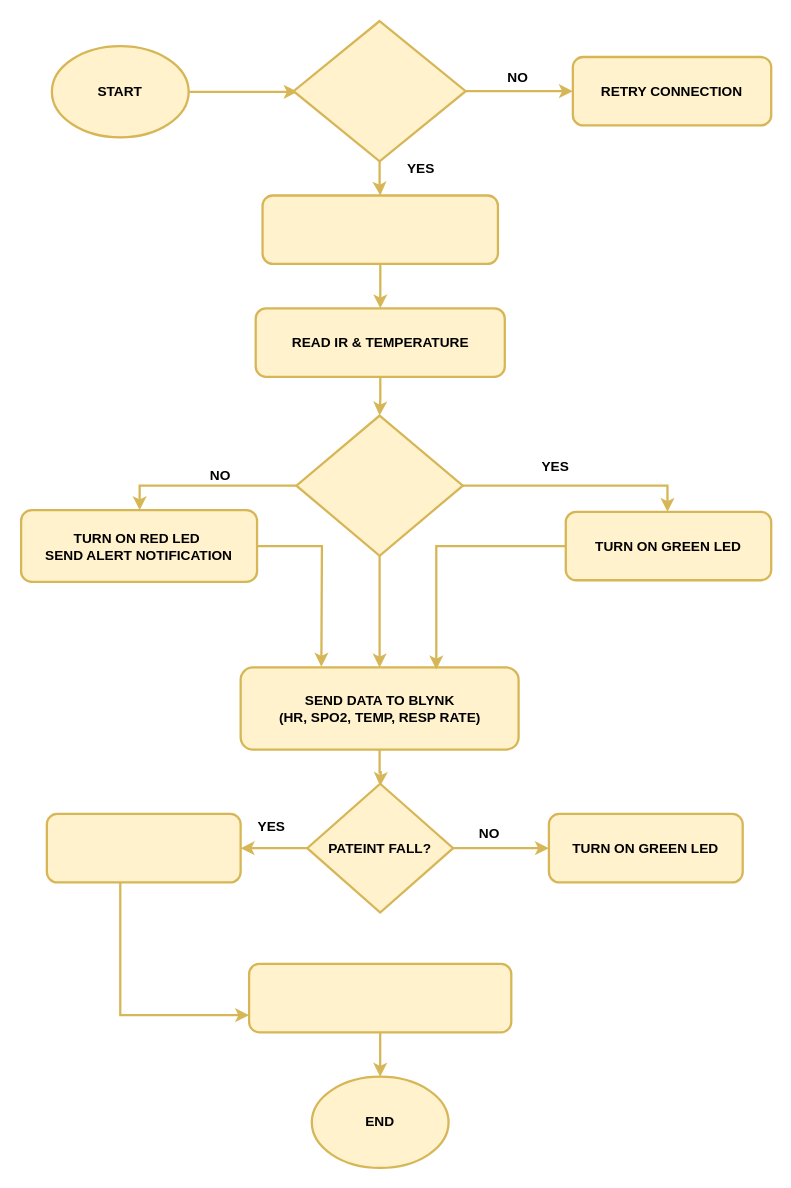
The diagram is 791 pixels wide and 1188 high, and some of its shapes have lost their labels. Here are the shapes that lost their labels. From the top down, the centre of each, then its label:
(379,90): CONNECT TO BLYNK
(380,229): INITIALIZE SENSORS MAX30105, MLX90614 & FLEX SENSOR & MPU6050
(379,485): VITALS NORMAL
(143,847): TURN ON RED LED
(379,997): SEND ALERT NOTIFICATION
